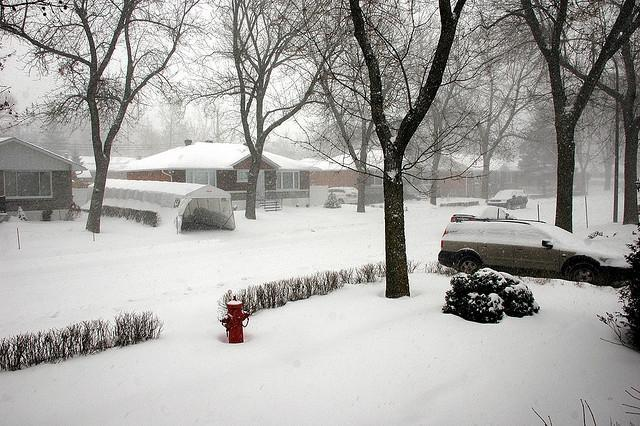car: (438, 213, 632, 284), (487, 190, 528, 210), (328, 186, 358, 204)
